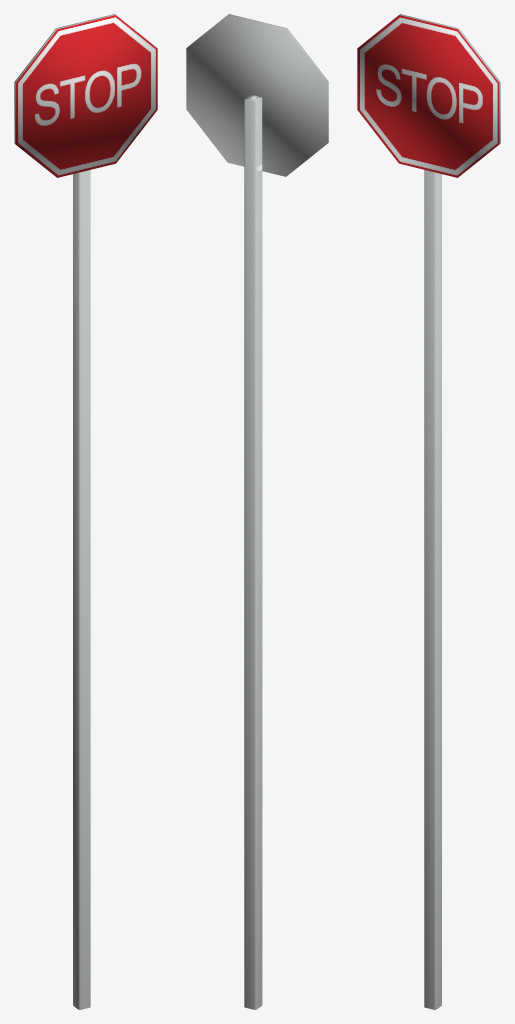
Rendered from stop_sign_low_poly.glb.
3 views of the same model, side by side, from view 1: azimuth 30°, elevation 25°; view 2: azimuth 150°, elevation 25°; view 3: azimuth 330°, elevation 25° (orthographic).
Visible parts, largest first — view 1: Object_2; view 2: Object_2; view 3: Object_2.
Part boxes in pixels (<box>): Object_2: <box>14,14,157,1009</box>; Object_2: <box>186,14,328,1009</box>; Object_2: <box>357,14,500,1009</box>.
Size of the model in its own units: 35 by 232 by 3.57.
1 material, 1 textured.
